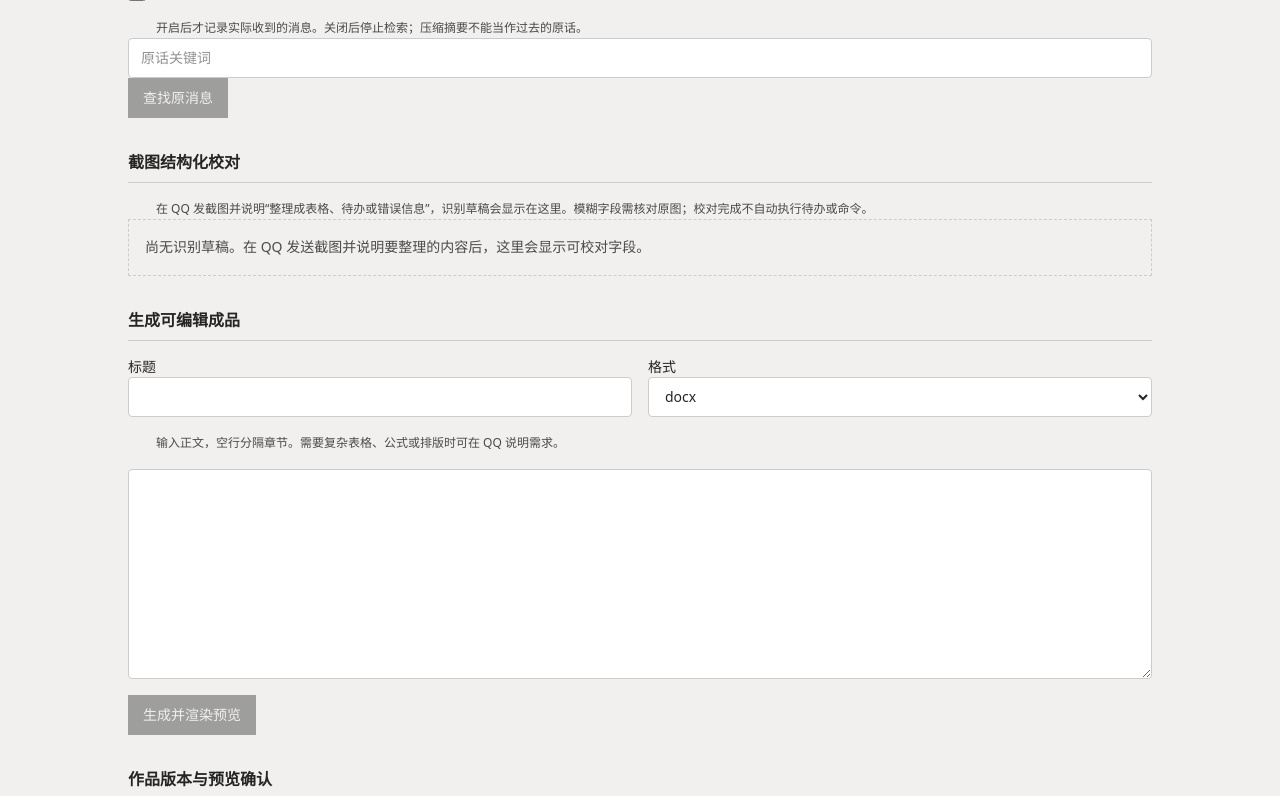
sends no further job progress reads while one is pending and resumes once it settles
This screenshot has width=1280, height=796.
(page scrolled)
Type "Synthetic report" into the field named "成品标题". click: (380, 397)
box: [128,377,632,417]
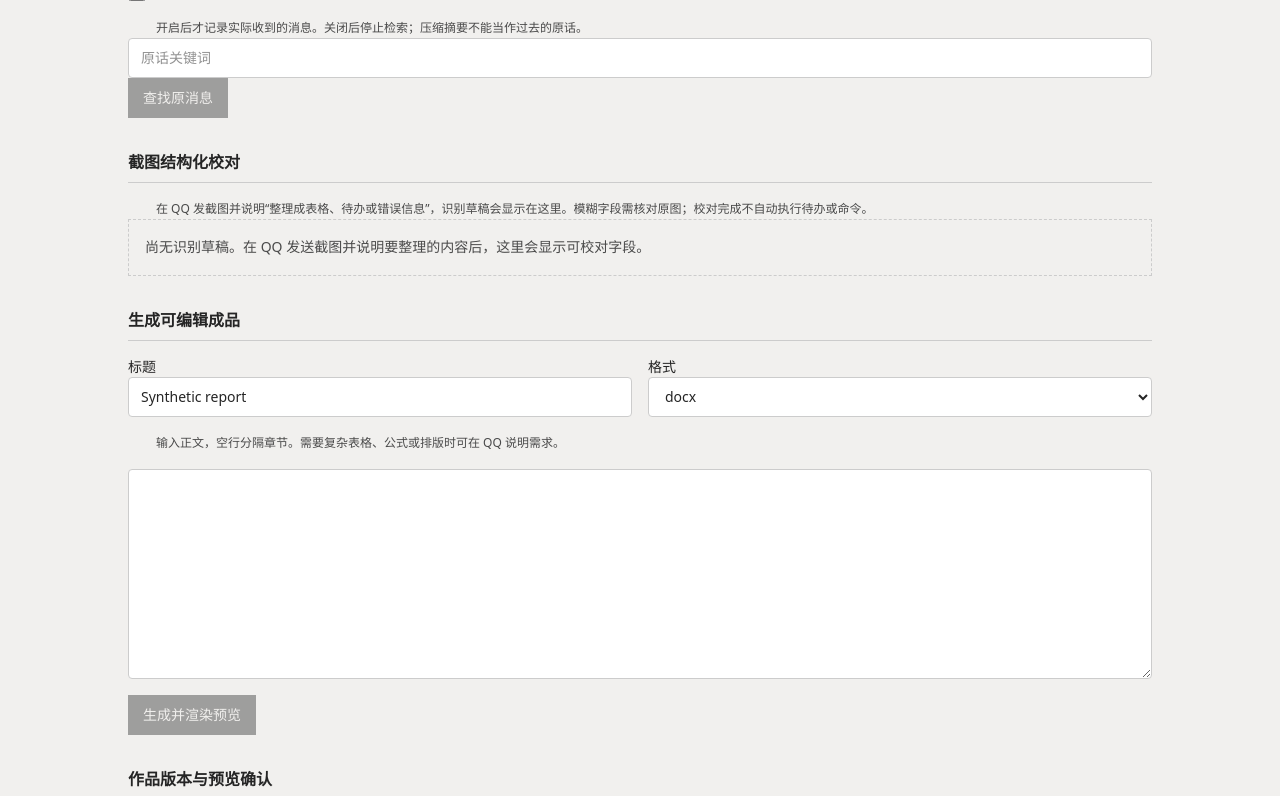
Type "Synthetic body" into the text box named "成品内容". click: (640, 574)
box: [128,469,1152,679]
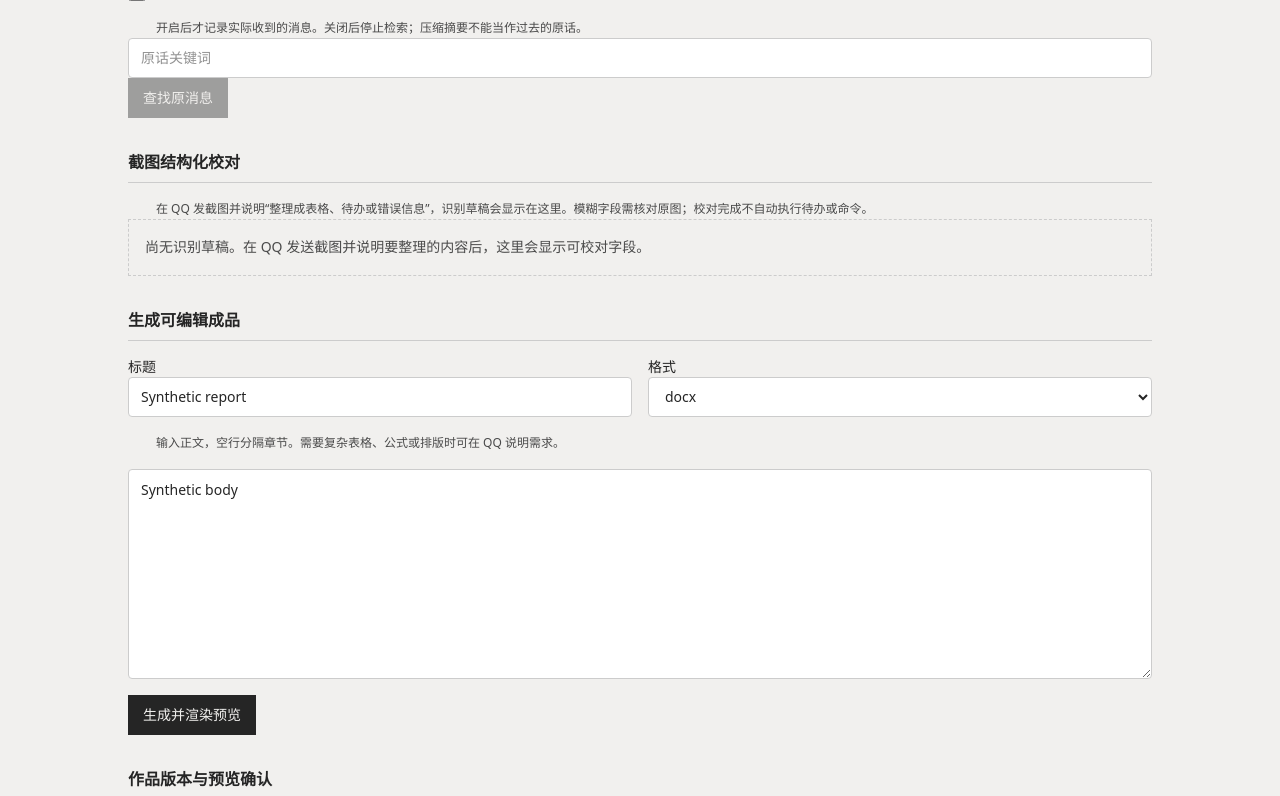
Click the button "生成并渲染预览". click: (192, 715)
box: [128,695,256,735]
Wait 10000 ms
(page scrolled)
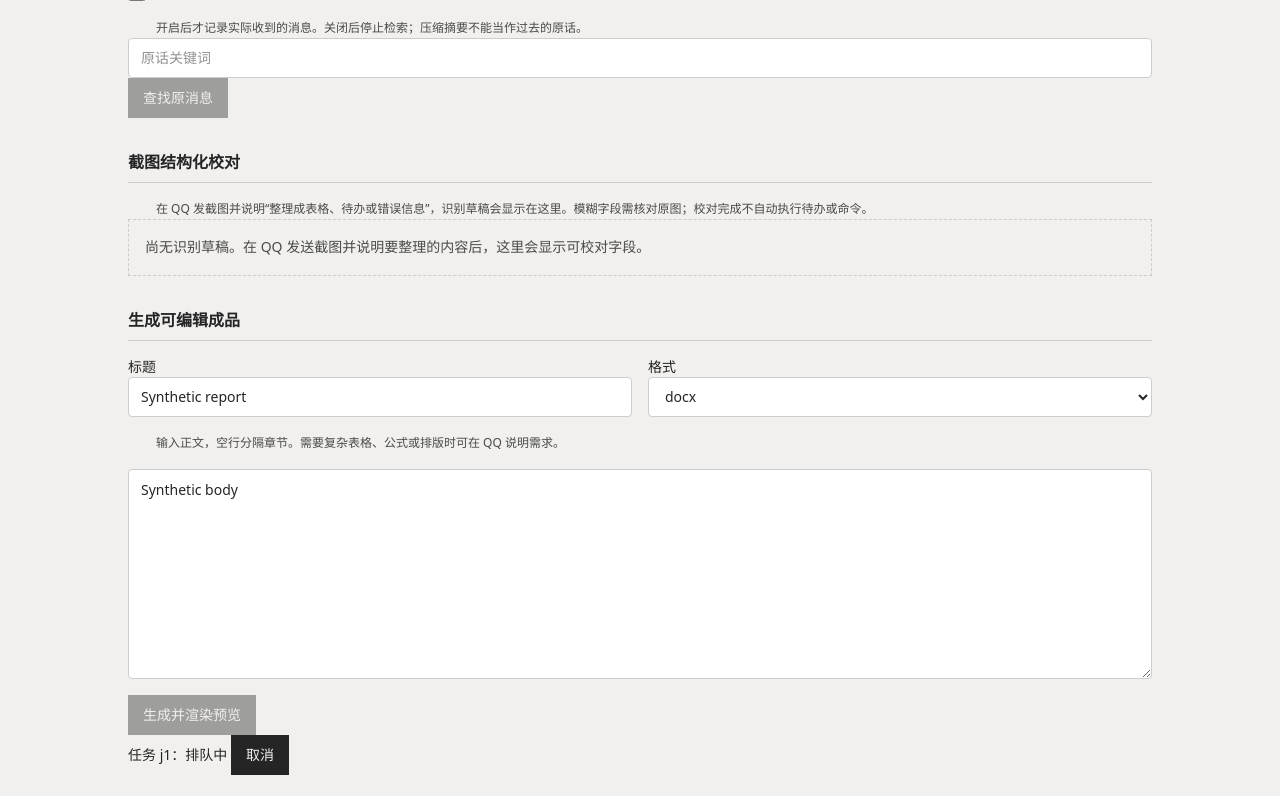
Now the text "任务 j1：排队中 取消" is shown, box [128,735,289,775]
